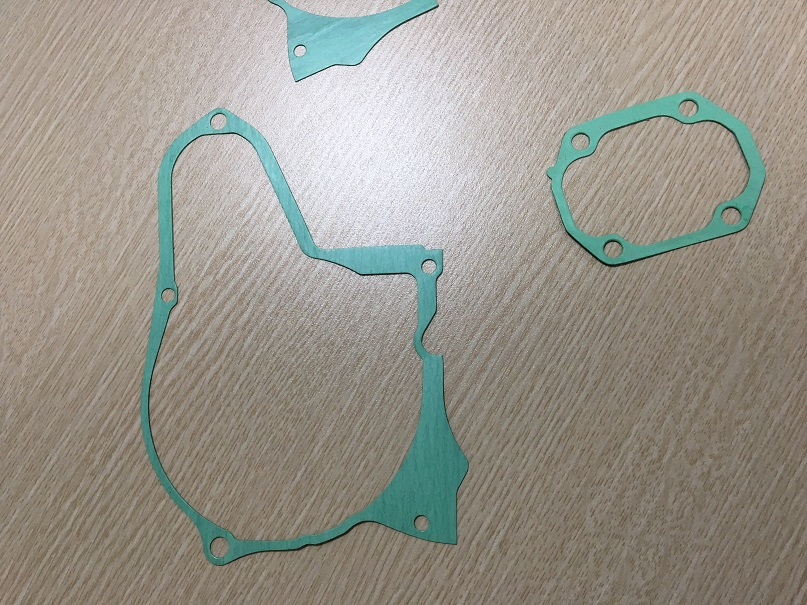type1: (130, 102, 475, 576)
type2: (538, 81, 774, 270)
